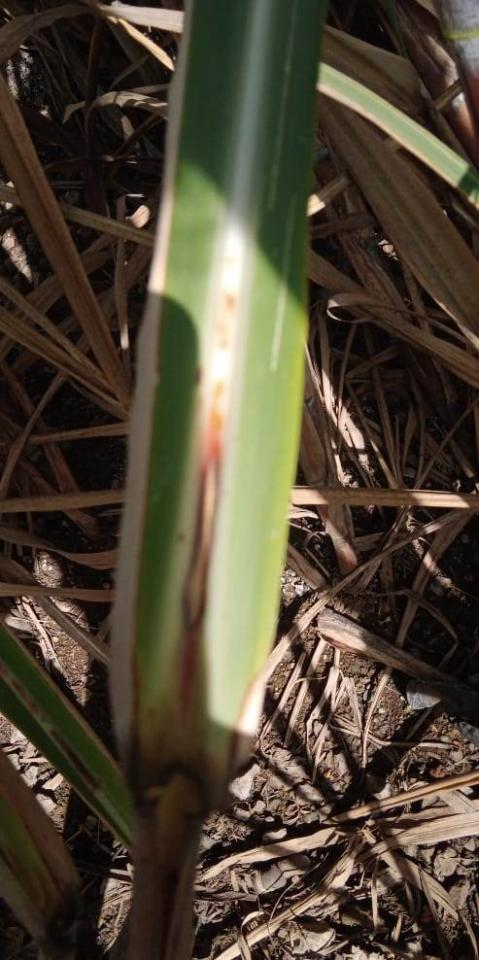RedRot: (178, 374, 226, 719)
